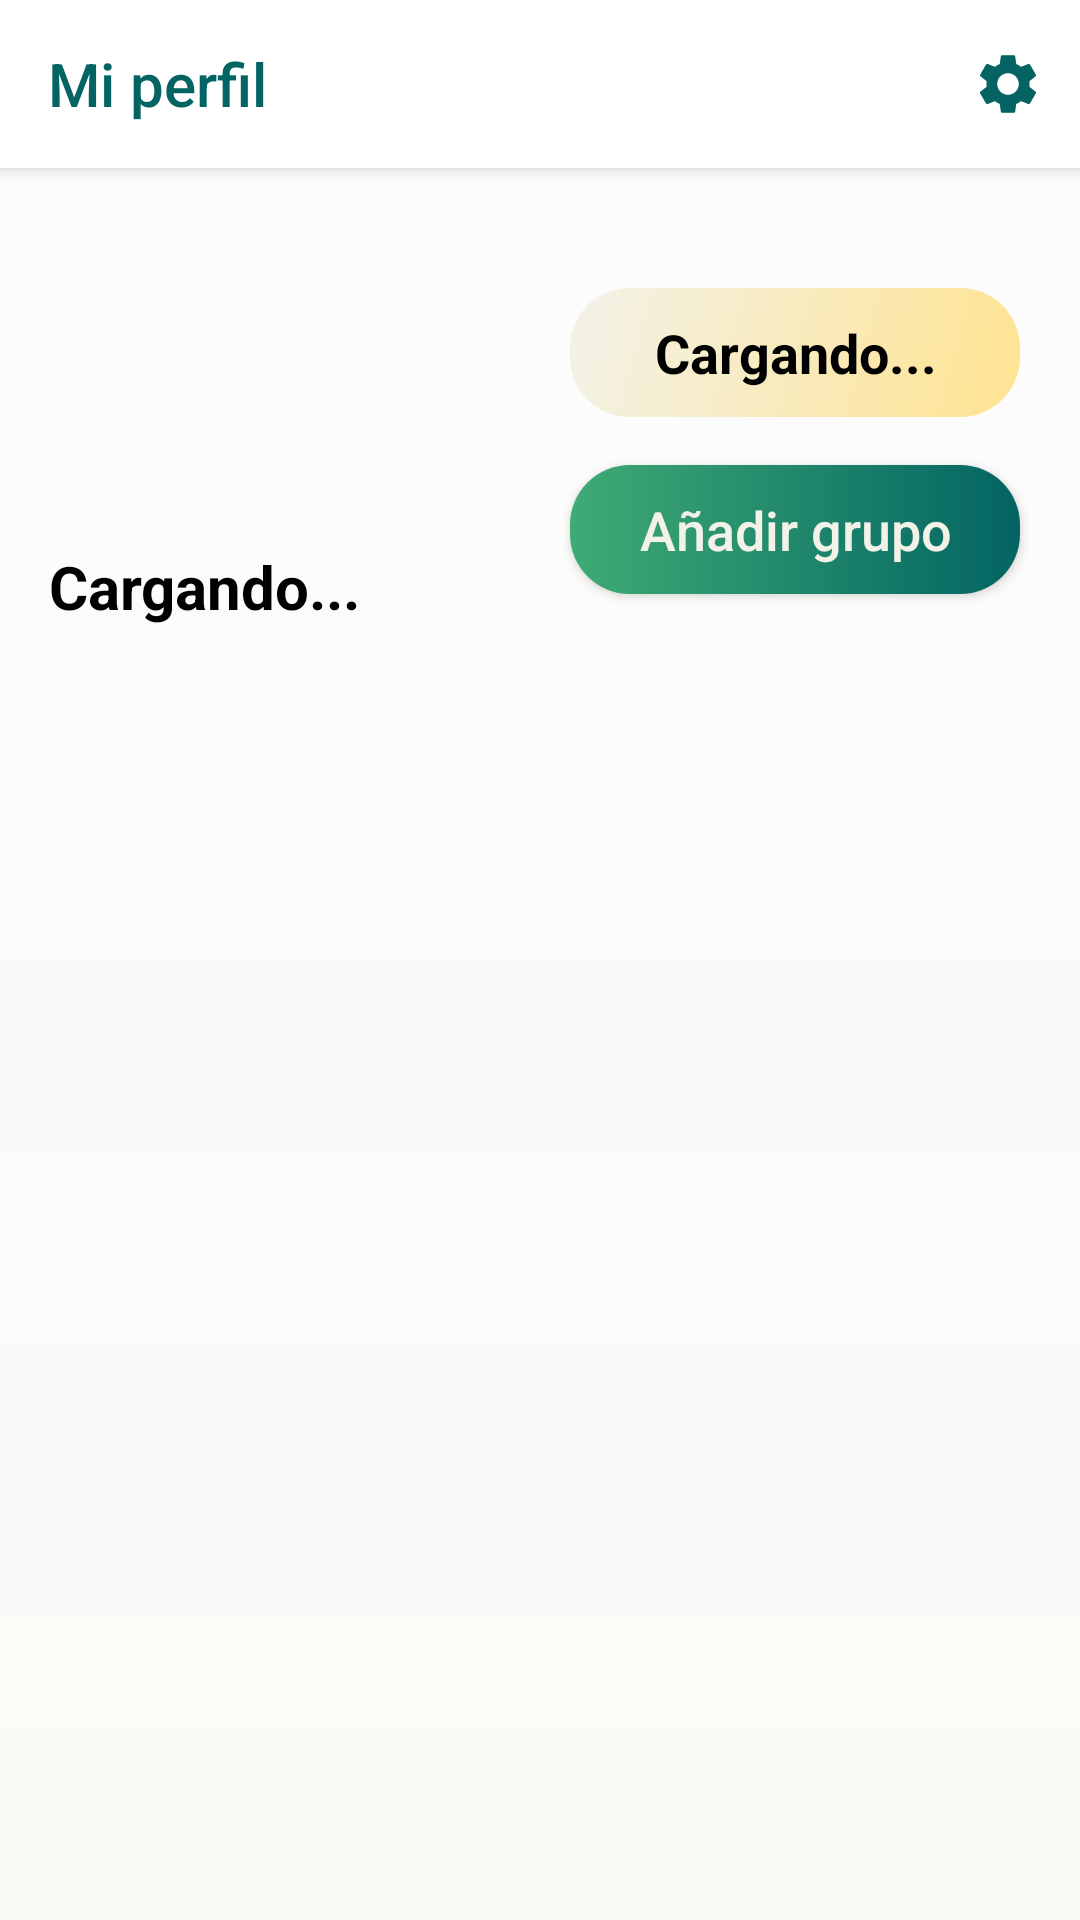

Named icons in this screenshot (1080px x 1920px) and their bounding boxes, [x1,y1,x2,y2]:
settings: [980,55,1036,113]
